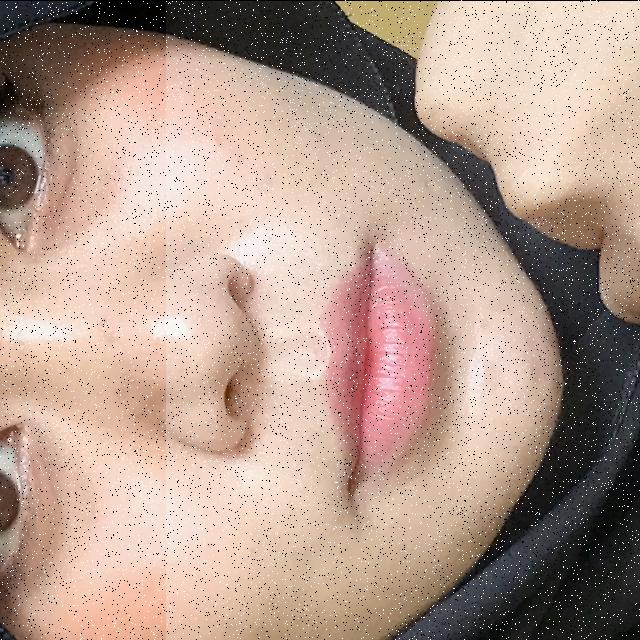telpon: (166, 0, 640, 640)
